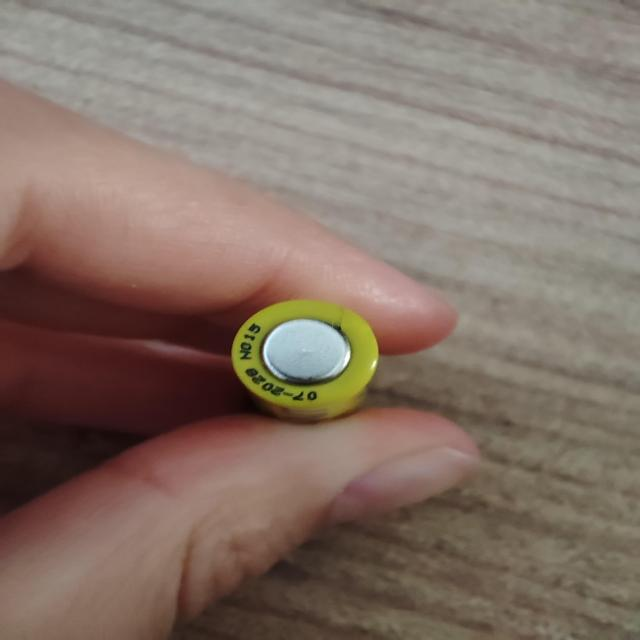AAA: (230, 298, 380, 423)
